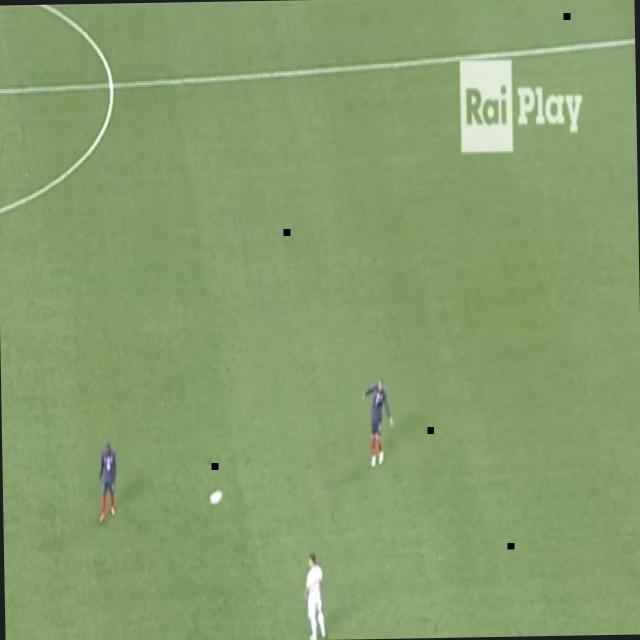ball: (208, 487, 223, 508)
player-white: (360, 373, 396, 471), (301, 550, 327, 640), (95, 438, 118, 526)
